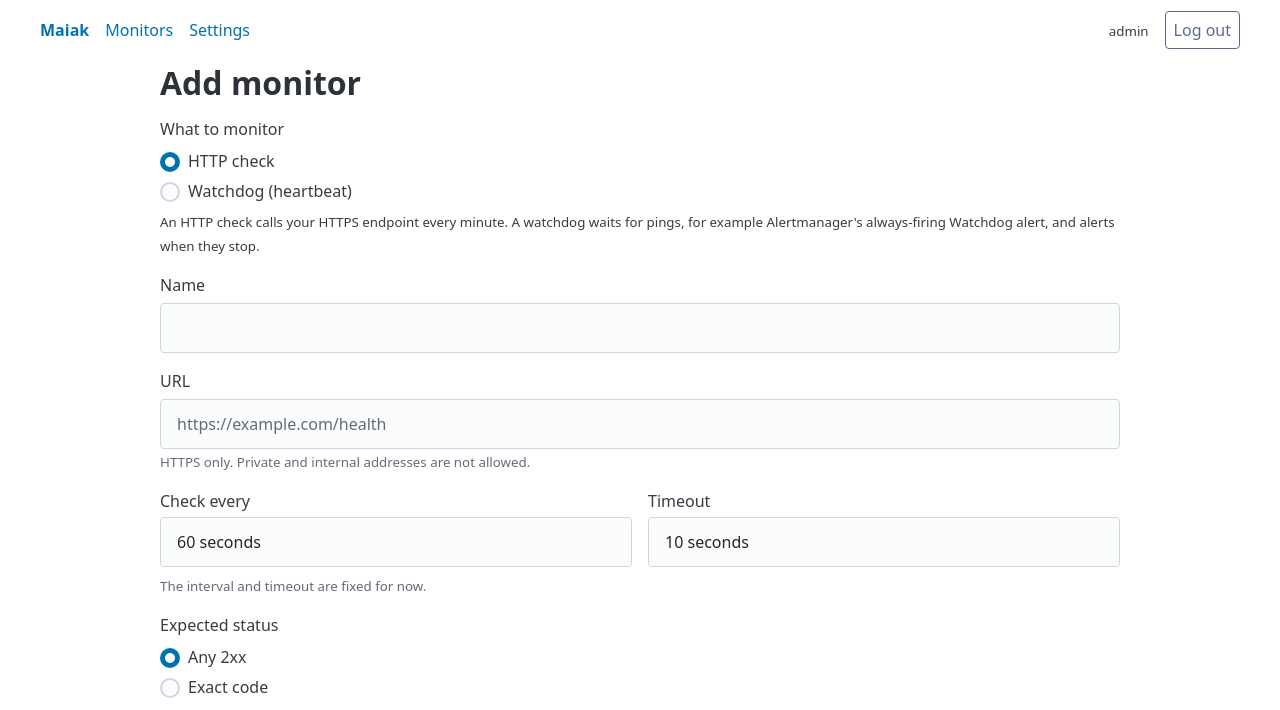
Scenario: monitor form › shows server field errors next to the fields
Type "Internal" into the field labelled "Name".
click(640, 328); type("Internal")  # box [160,303,1120,353]
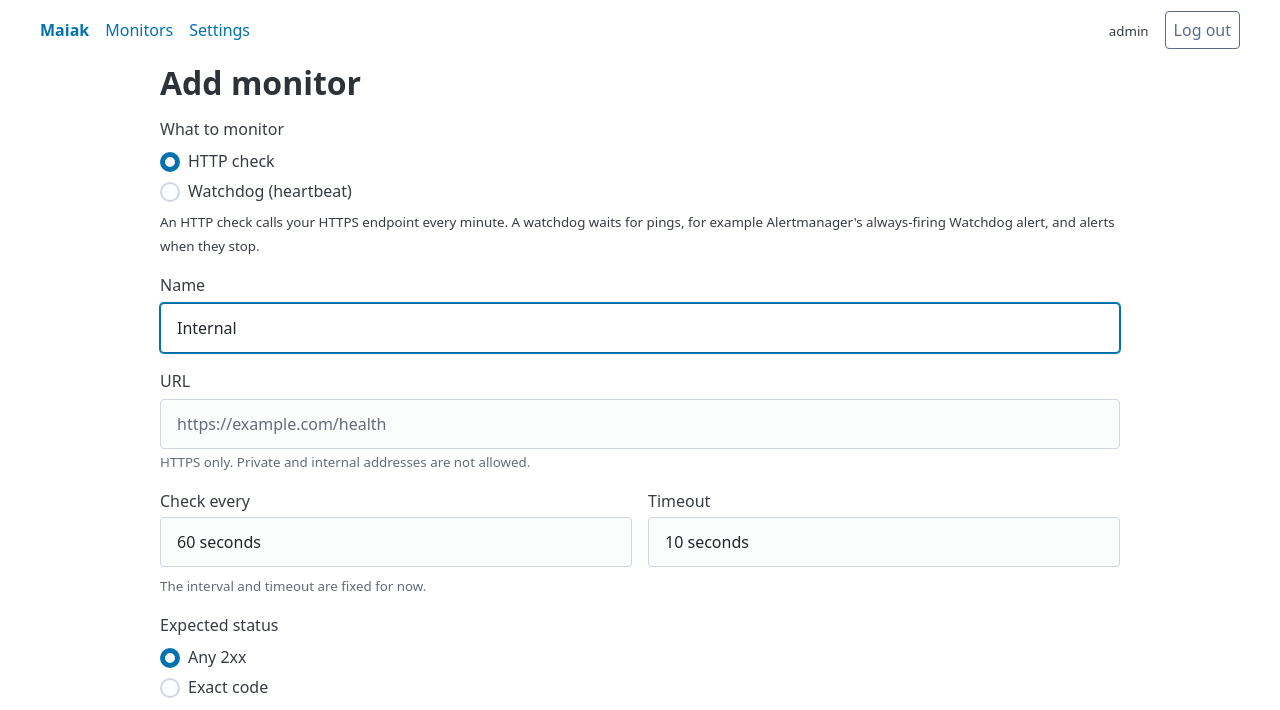
Type "https://intranet.example" into the field labelled "URL".
click(640, 424); type("https://intranet.example")  # box [160,399,1120,449]
(page scrolled)
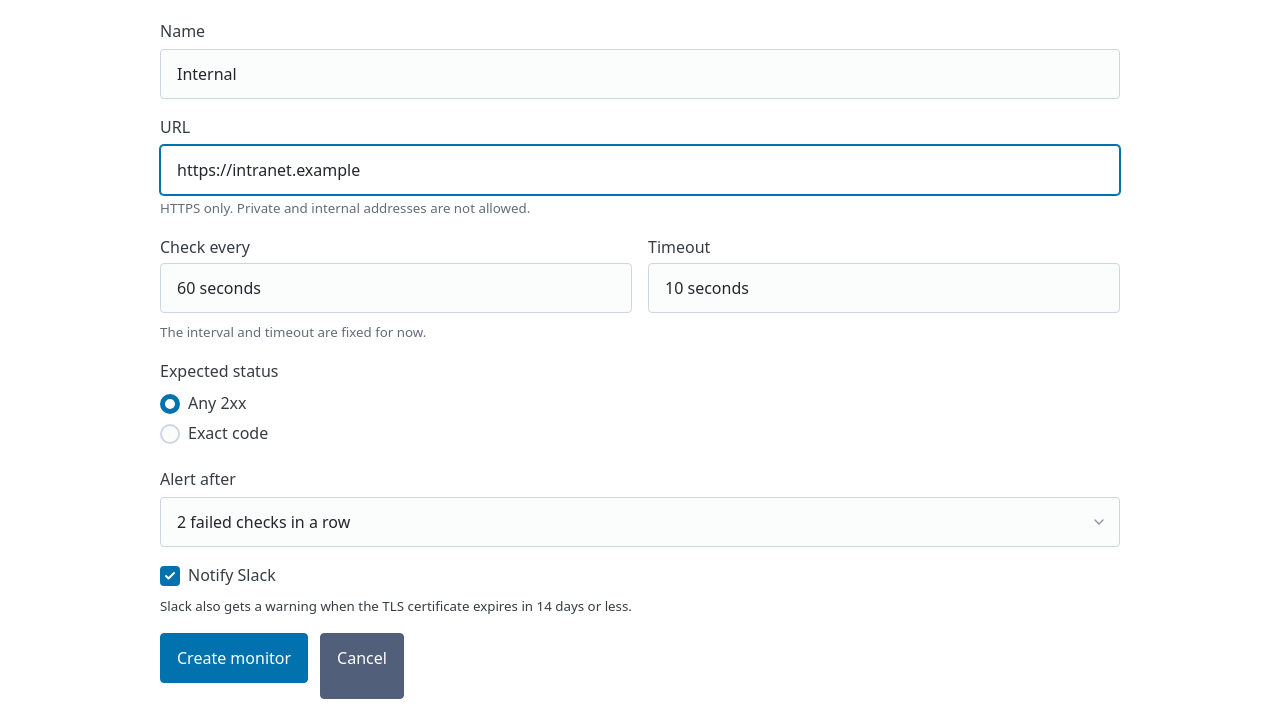
Click the button "Create monitor".
click(234, 658)  # box [160,633,308,683]
(page scrolled)
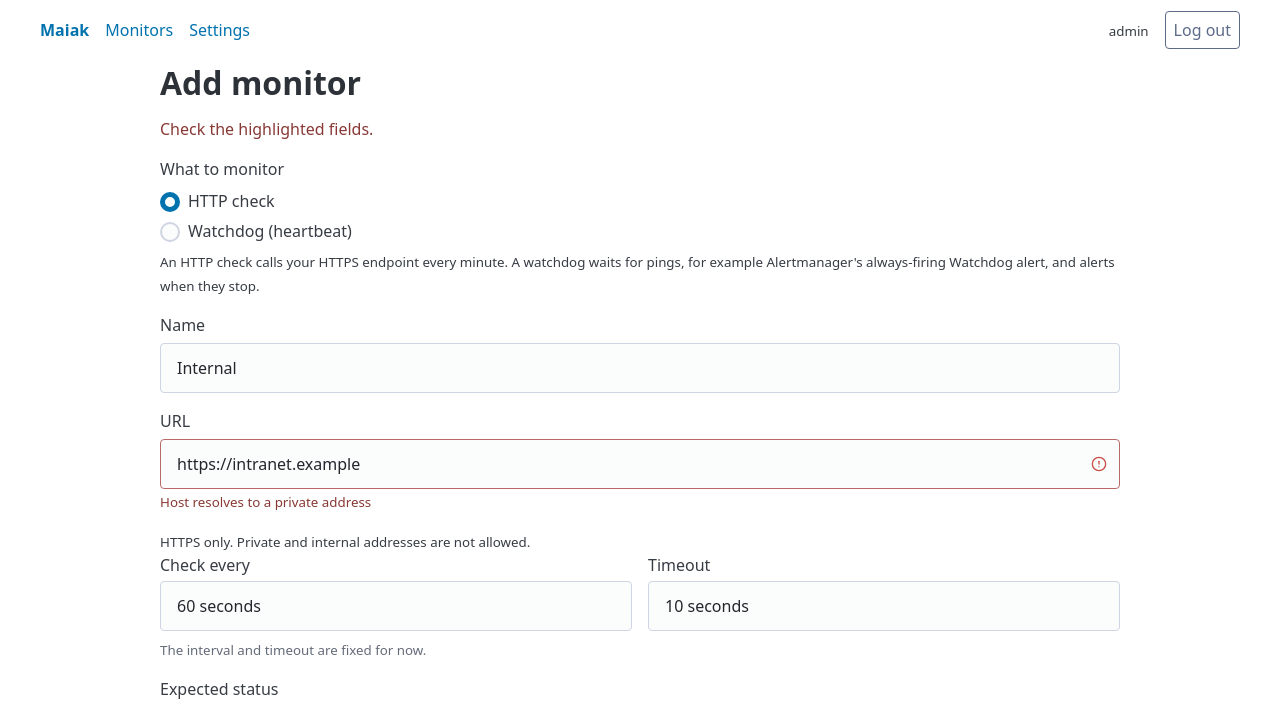
Expected: the text "Host resolves to a private address" is shown, [160,493,371,511]
Expected: the message reads "Check the highlighted fields.", [160,118,373,140]
